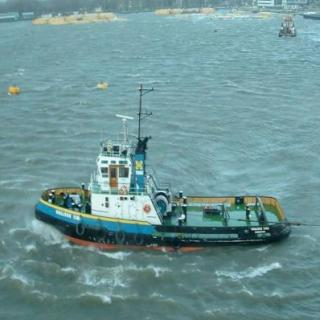Tug Boat: (37, 108, 296, 254)
